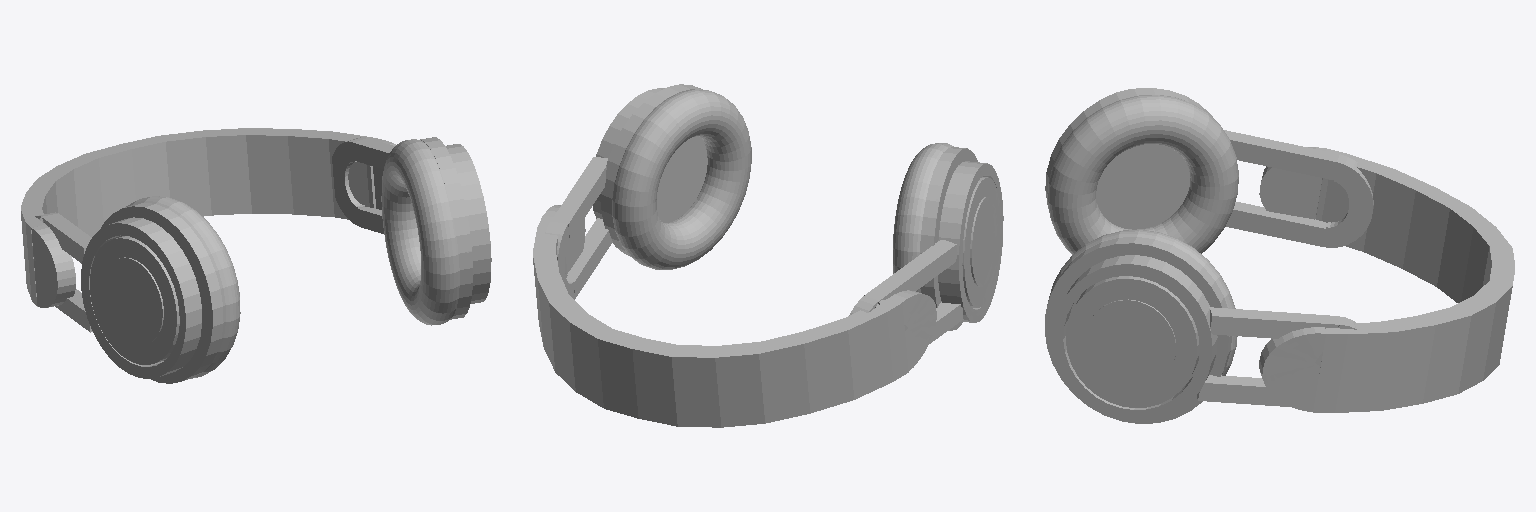
robot.urdf — root:
<robot name="root">
  <link name="link_001">
    <visual>
      <origin xyz="0 0 0" rpy="0 0 0"/>
      <geometry>
        <mesh filename="headphones.obj" scale="1.5000E+00 1.5000E+00 1.5000E+00"/>
      </geometry>
      <material name="">
        <color rgba="7.50E-01 7.50E-01 7.50E-01 1"/>
      </material>
    </visual>
    <collision>
      <origin xyz="0 0 0" rpy="0 0 0"/>
      <geometry>
        <mesh filename="headphones.obj" scale="1.5000E+00 1.5000E+00 1.5000E+00"/>
      </geometry>
    </collision>
    <inertial>
      <mass value="0.16"/> <!-- 质量：0.1kg -->
    </inertial>
  </link>
</robot>

--- Facts derived from the render (not from the file) ---
The picture shows the robot from 3 angles, left to right: view 1: azimuth 30°, elevation 25°; view 2: azimuth 150°, elevation 25°; view 3: azimuth 270°, elevation 25°; orthographic projection.
Model root with 1 links and 0 joints (none), rooted at link_001, posed every joint at zero.
Links seen in each view (by area): view 1: link_001; view 2: link_001; view 3: link_001.
Link boxes in pixels (x1,y1,x2,y2): link_001: (21, 128, 491, 383); link_001: (533, 84, 1003, 427); link_001: (1045, 88, 1514, 423).
Bounding box of the posed robot: 0.1893 × 0.1972 × 0.0868 m (x, y, z).
1 mesh visuals loaded from 1 distinct referenced files (1 OBJ).
